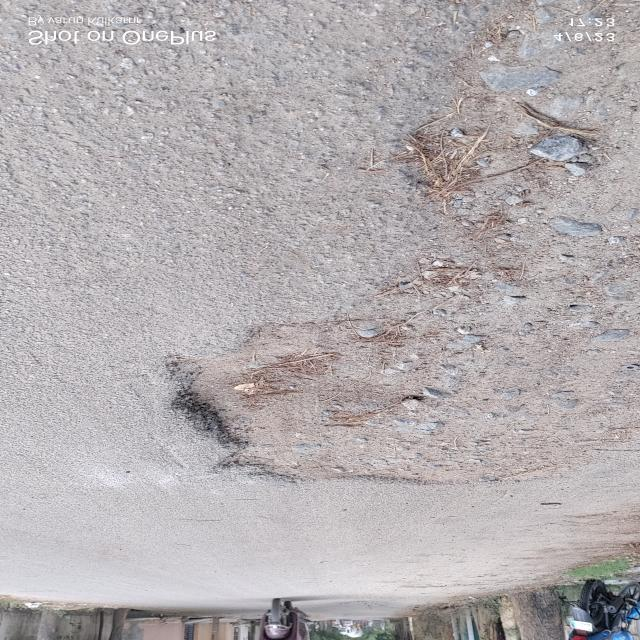potholes: (155, 85, 640, 507)
